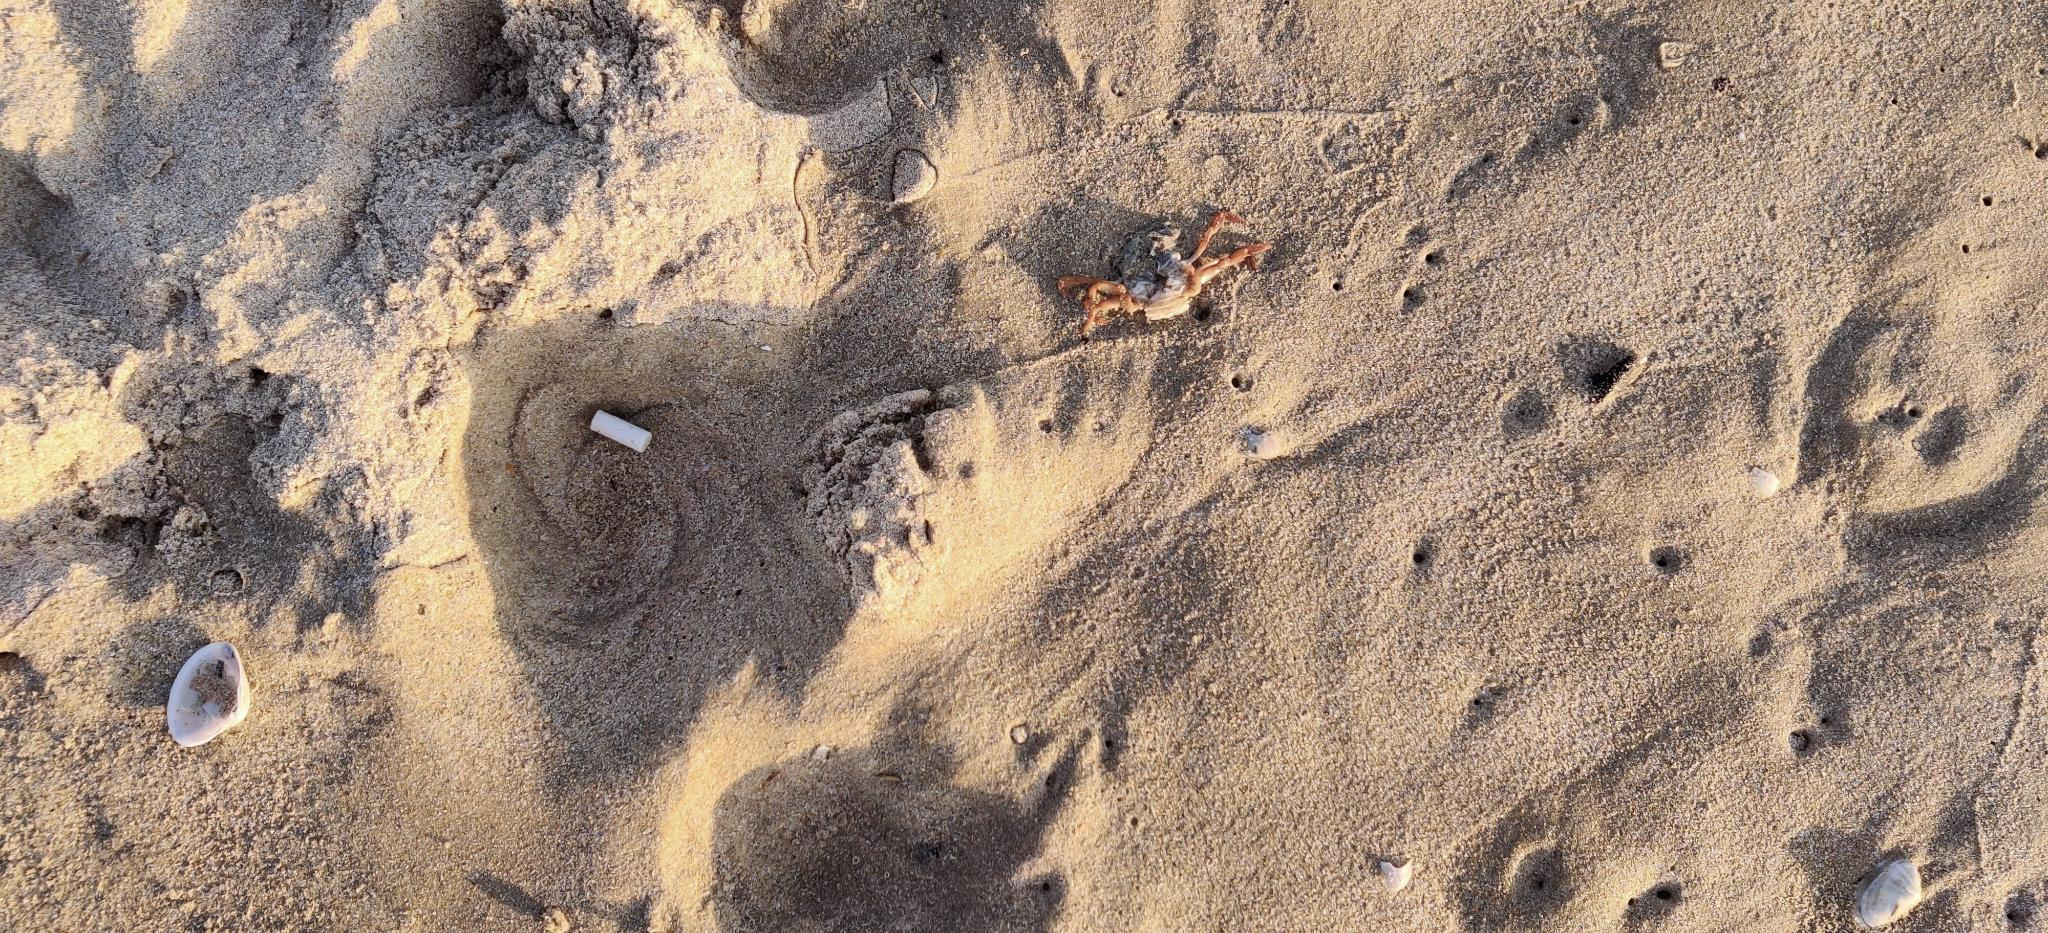Plastic: (581, 402, 653, 453)
